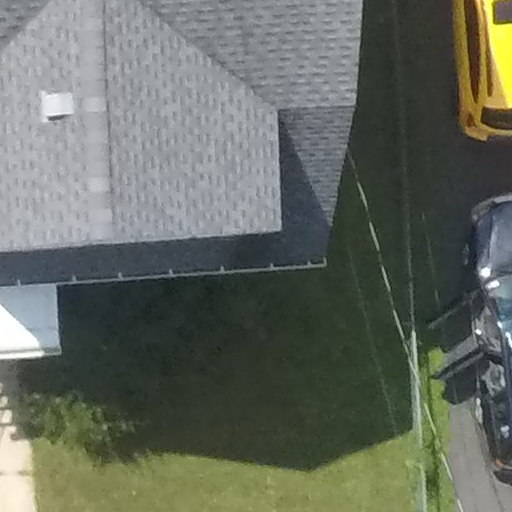fence: (385, 3, 437, 512)
